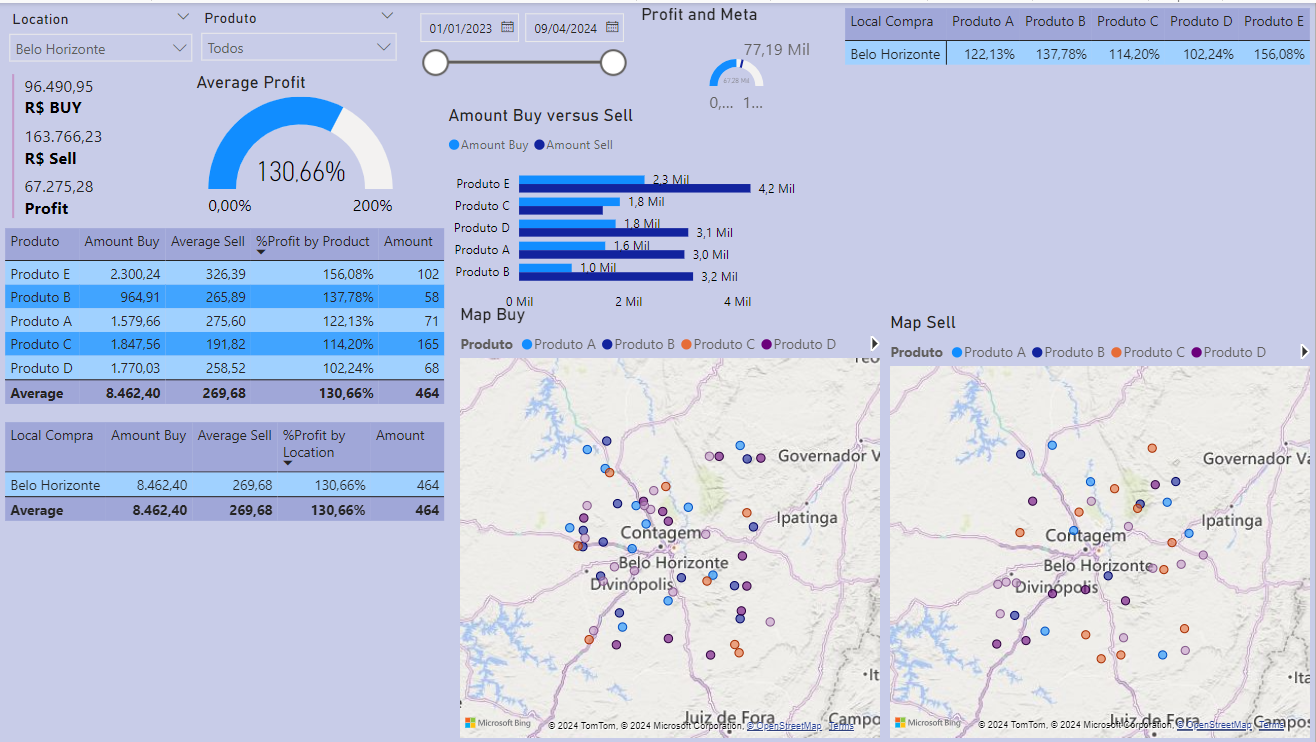

What the dashboard file says about the page in this screenshot:
{"tool":"powerbi","page":{"name":"Profit Page","canvas":[1280,720],"ordinal":0},"visuals":[{"type":"clusteredBarChart","title":"Amount Buy versus Sell","fields":{"Y":["Sum(compras.Preço Compra)","Sum(vendas.Preço Venda)"],"Category":["Product.Produto"]},"box":[443.5,0,374.5,275.3],"z":0},{"type":"tableEx","fields":{"Values":["Product.Produto","Sum(compras.Preço Compra)","Avg(vendas.Preço Venda)","TabelaDatas.%LPP","Sum(compras.Quantidade)"]},"box":[0,214,443.5,188.7],"z":1},{"type":"map","title":"Map Sell","fields":{"X":["compras.Longitude"],"Y":["compras.Latitude"],"Series":["Product.Produto"]},"box":[861.8,275.3,418.2,444.5],"z":2},{"type":"slicer","fields":{"Values":["Location.Local Compra"]},"box":[0,1.9,226.6,65.2],"z":3},{"type":"slicer","fields":{"Values":["Product.Produto"]},"box":[226.6,0,210.1,67.1],"z":4},{"type":"map","title":"Map Buy","fields":{"Series":["Product.Produto"],"Y":["vendas.Latitude"],"X":["vendas.Longitude"]},"box":[443.5,275.3,418.2,444.5],"z":5},{"type":"tableEx","fields":{"Values":["Location.Local Compra","Sum(compras.Preço Compra)","Avg(vendas.Preço Venda)","TabelaDatas.%LPP","Sum(compras.Quantidade)"]},"box":[0,402.7,443.5,317.1],"z":6},{"type":"pivotTable","fields":{"Rows":["Location.Local Compra"],"Values":["TabelaDatas.%LPP"],"Columns":["Product.Produto"]},"box":[818,0,462,275.3],"z":7},{"type":"gauge","title":"Average Profit ","fields":{"Y":["TabelaDatas.%LPP"],"MaxValue":["compras.Best"]},"box":[226.6,67.1,213,149.8],"z":8},{"type":"multiRowCard","fields":{"Values":["Location.Total_Compras","Location.Total_Vendas","Location.Lucro"]},"box":[7.8,64.2,211.1,149.8],"z":9}]}

Visuals, with their boxes in screenshot pixels (x1, y1, x2, y2), scaled from the page's 1280x720 canvas onto the 1316x742 screenshot:
"Amount Buy versus Sell" clusteredBarChart: <region>456, 0, 841, 284</region>
tableEx - Product.Produto x Sum(compras.Preço Compra): <region>0, 221, 456, 415</region>
"Map Sell" map: <region>886, 284, 1315, 741</region>
slicer - Location.Local Compra: <region>0, 2, 233, 69</region>
slicer - Product.Produto: <region>233, 0, 449, 69</region>
"Map Buy" map: <region>456, 284, 886, 741</region>
tableEx - Location.Local Compra x Sum(compras.Preço Compra): <region>0, 415, 456, 741</region>
pivotTable - Location.Local Compra x TabelaDatas.%LPP: <region>841, 0, 1315, 284</region>
"Average Profit " gauge: <region>233, 69, 452, 224</region>
multiRowCard - Location.Total_Compras x Location.Total_Vendas: <region>8, 66, 225, 221</region>
